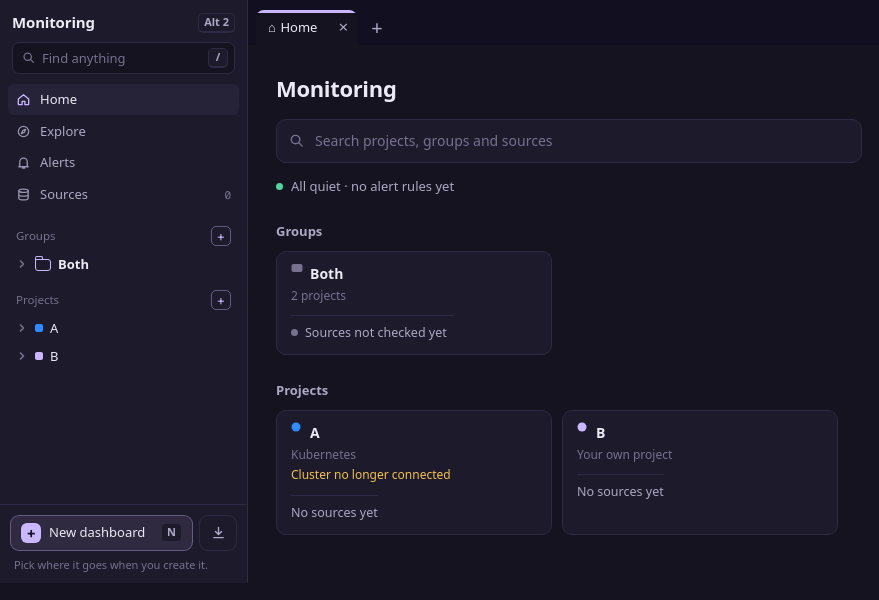
Monitoring sidebar › slash focuses Find and Enter opens the top hit
Later steps or results of the test are not shown.
Check: the list item "Both" is shown, box [17,255,89,273]
Press /
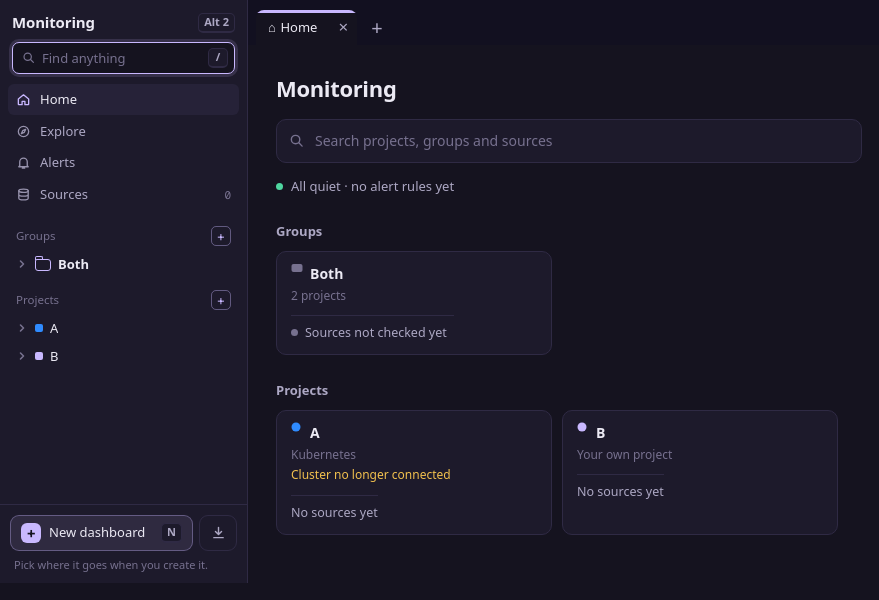
Type "bo" into the dropdown labelled "Find anything". click: (122,58)
box: [42,43,201,73]
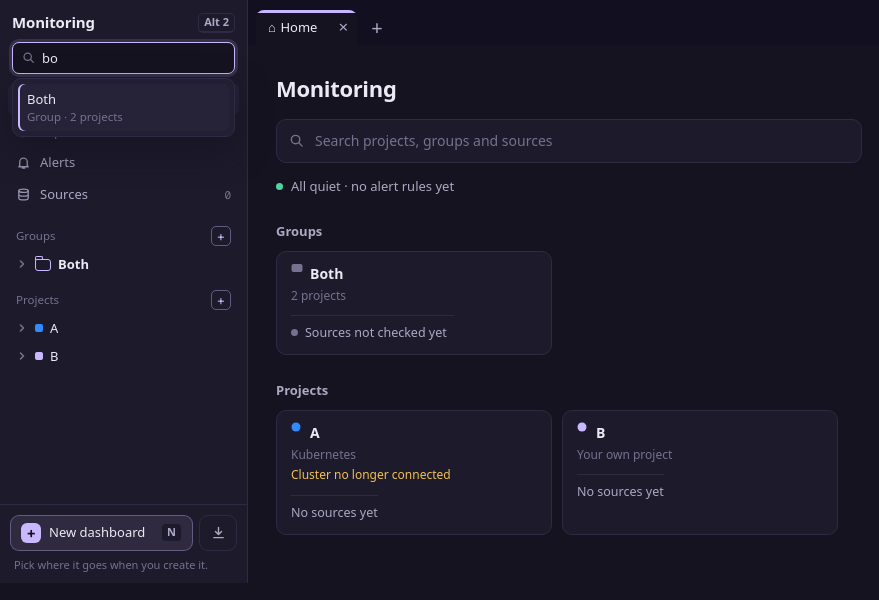
Check: the option shows "Both", box [18,84,229,131]
Check: the dropdown named "Find anything" is expanded, box [42,43,228,73]
